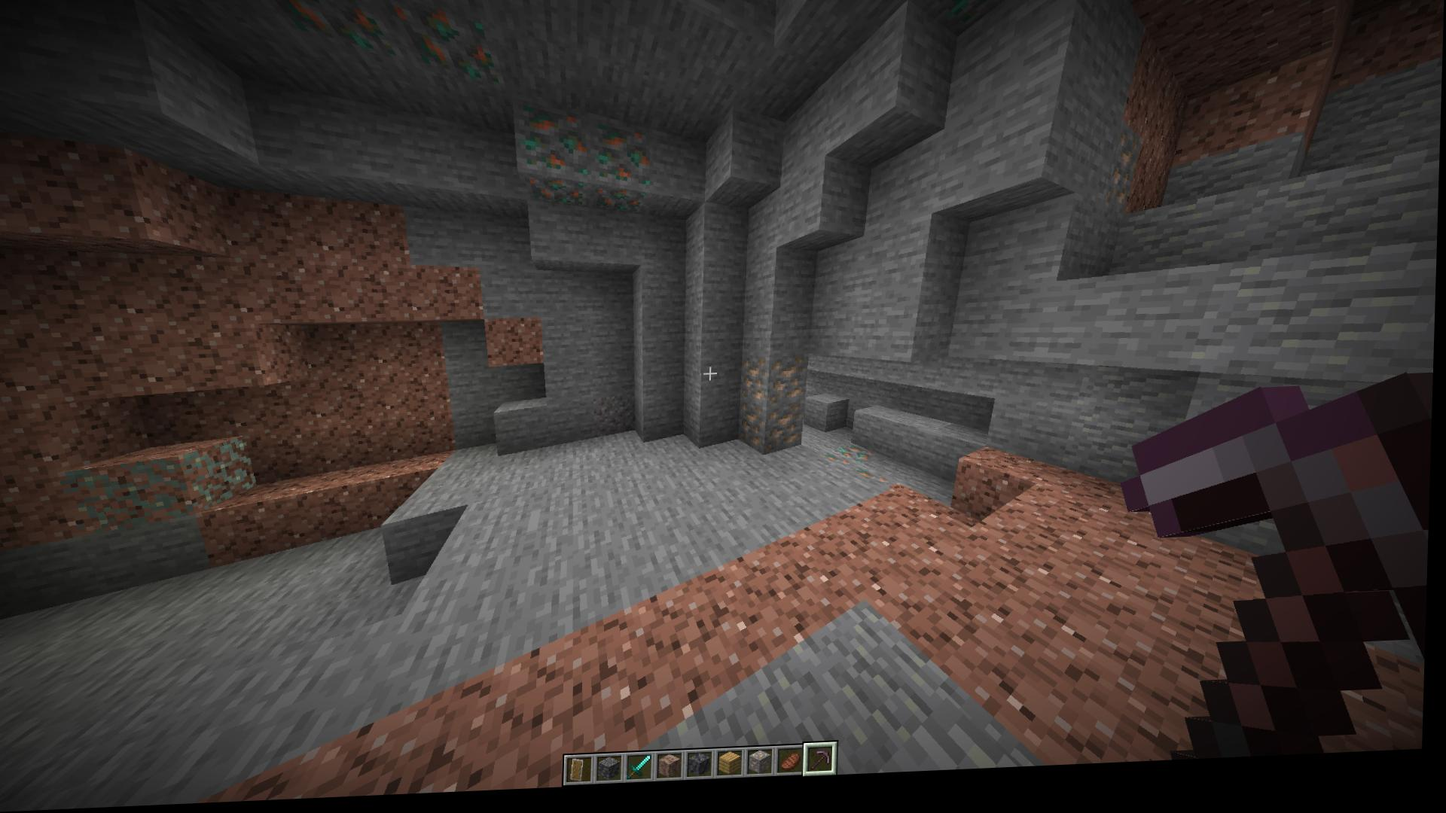iron ore: (1098, 139, 1147, 222), (739, 407, 807, 465), (742, 359, 810, 413)
